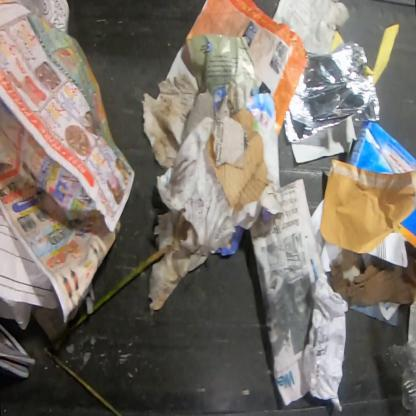cardboard: (206, 108, 270, 214)
soft_plastic: (282, 40, 380, 146), (384, 340, 415, 413)
